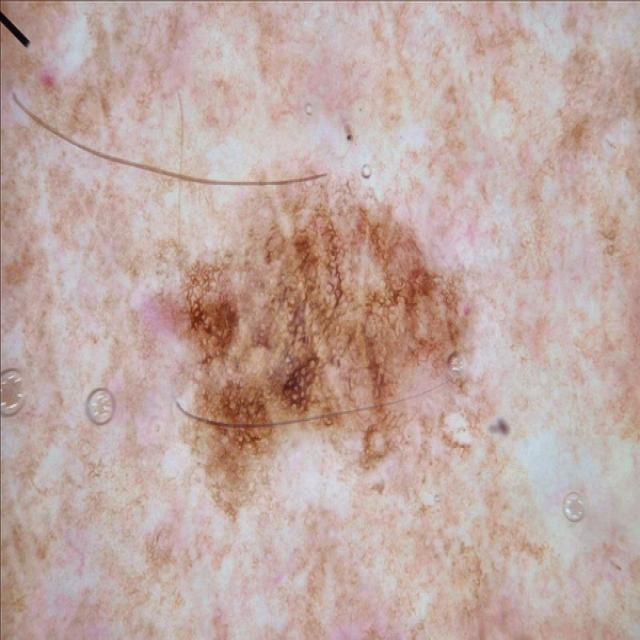Benign-Keratosis-like-Lesions-BKL-: (79, 91, 529, 544)
